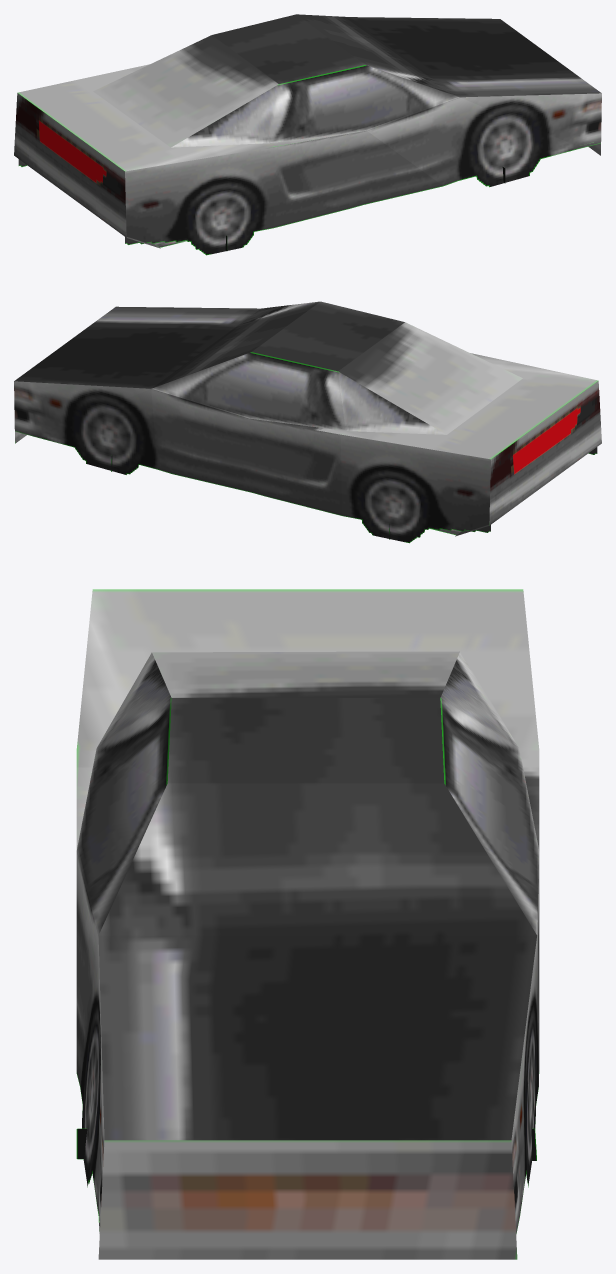
File: _MID_NSX.obj
3 renders of one model, top to bottom at view 1: azimuth 30°, elevation 25°; view 2: azimuth 150°, elevation 25°; view 3: azimuth 270°, elevation 25°, orthographic. The views are drawn at different scales.
Bounding box in the file's own units: 562 × 149 × 234.
Materials: 1 (1 with a texture image).
